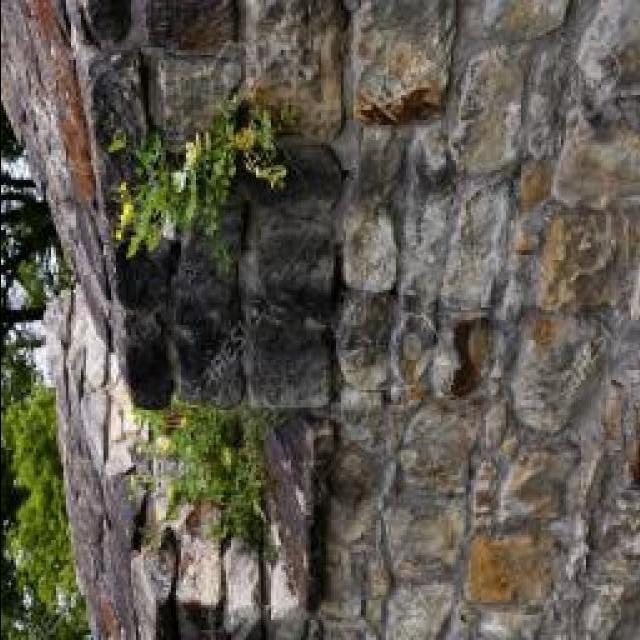crack: (472, 9, 640, 634), (406, 2, 555, 389), (327, 5, 462, 423), (462, 362, 541, 640), (317, 204, 349, 629), (455, 376, 489, 640), (241, 444, 282, 640), (334, 0, 367, 193), (235, 0, 274, 130), (149, 520, 187, 639)
vegetation: (3, 374, 90, 638), (125, 400, 275, 549), (113, 129, 202, 262), (225, 100, 292, 191)
